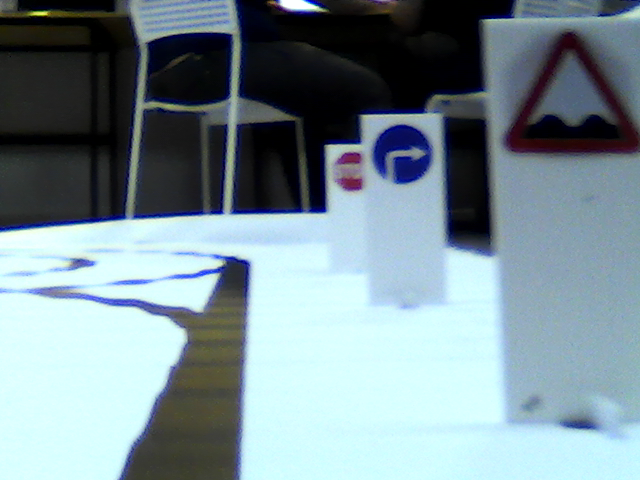Nerov: (504, 24, 638, 161)
Right: (373, 125, 431, 184)
Stop: (334, 152, 364, 189)
